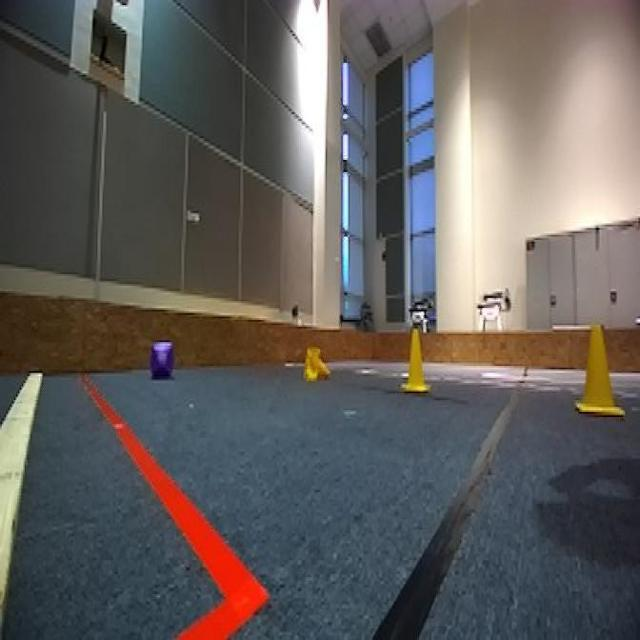frc_cone: (575, 327, 619, 417), (400, 325, 433, 395), (302, 346, 333, 381)
frc_cube: (150, 340, 174, 380)
